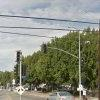Traffic light: (38, 42, 52, 53)
